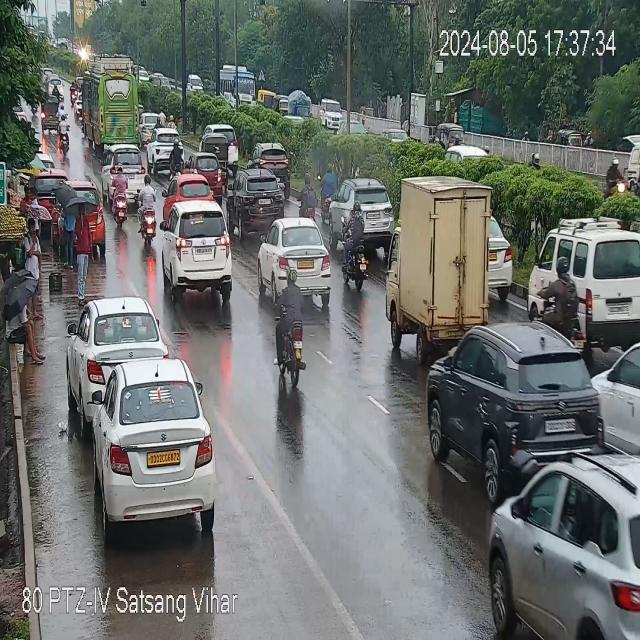2-wheelers: (538, 260, 594, 351), (278, 255, 308, 382), (339, 203, 372, 298), (138, 178, 160, 244), (297, 170, 318, 218), (600, 160, 626, 198), (111, 170, 128, 227), (59, 116, 69, 158), (59, 102, 66, 114)
auto: (202, 137, 230, 164), (41, 94, 59, 134)
bus: (80, 63, 140, 141), (217, 68, 257, 102)
car: (487, 449, 639, 640), (425, 324, 607, 472), (92, 356, 216, 525), (537, 221, 636, 336), (72, 296, 165, 400), (161, 202, 237, 306), (254, 219, 337, 305), (231, 167, 286, 230), (332, 181, 393, 232), (81, 178, 104, 248), (150, 129, 184, 170), (106, 146, 148, 178), (201, 124, 237, 152), (190, 154, 224, 180)
pedestrian: (9, 294, 36, 366), (70, 202, 92, 289), (27, 220, 43, 319), (61, 193, 75, 268), (16, 184, 38, 216)
truck: (384, 173, 508, 350)
